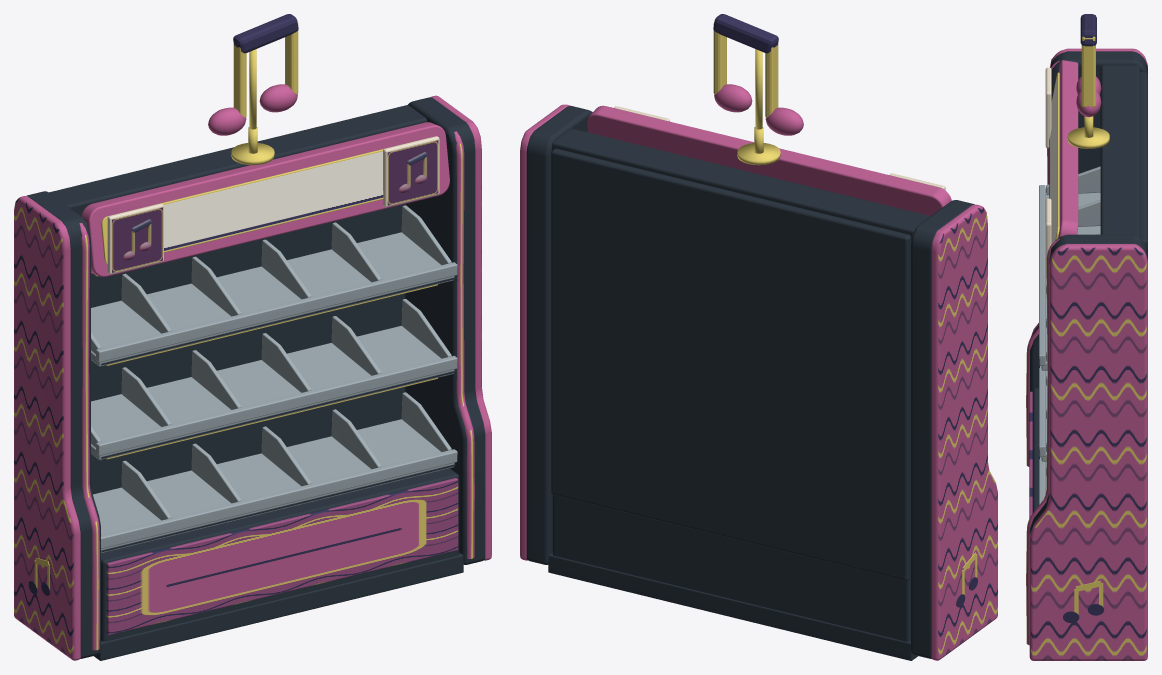
Rendered from TH_MUSIC.fbx.
3 renders of one model, left to right at view 1: azimuth 30°, elevation 25°; view 2: azimuth 150°, elevation 25°; view 3: azimuth 270°, elevation 25°, orthographic. The views are drawn at different scales.
Parts seen in each view (by area): view 1: BaseFrontInset, Left_PaintedPanel, BackPanel.001, Right_StructuralWall, Tray_02, Tray_01, Tray_03, HeaderFace, HeaderBorder, TopCrossRail, Left_StructuralWall, ClosedSolidBase (+37 smaller); view 2: BackPanel.001, Left_PaintedPanel, ClosedSolidBase, Right_StructuralWall, HeaderBorder, Left_StructuralWall, TopCrossRail, LowerPlinth, Right_PaintedPanel, Musical note beam, Musical note stem, Musical note head.001 (+3 smaller); view 3: Right_PaintedPanel, TopCrossRail, HeaderBorder, Left_StructuralWall, HeaderFace, BackPanel.001, RightHousing, FrontLip_01, Right_StructuralWall, Musical note stem.001, ClosedSolidBase, TopperMount (+14 smaller).
Boxes of the visible parts, x1,y1,x2,y2 form: BaseFrontInset: [106, 478, 458, 635]; Left_PaintedPanel: [14, 196, 80, 660]; BackPanel.001: [91, 204, 405, 494]; Right_StructuralWall: [405, 97, 485, 564]; Tray_02: [91, 326, 454, 459]; Tray_01: [91, 232, 454, 366]; Tray_03: [93, 419, 454, 553]; HeaderFace: [101, 138, 426, 264]; HeaderBorder: [81, 122, 449, 277]; TopCrossRail: [49, 105, 427, 216]; Left_StructuralWall: [26, 191, 100, 658]; ClosedSolidBase: [101, 468, 459, 641]; BackPanel.001: [551, 148, 911, 580]; Left_PaintedPanel: [931, 204, 997, 660]; ClosedSolidBase: [552, 495, 910, 641]; Right_StructuralWall: [526, 106, 592, 564]; HeaderBorder: [587, 105, 951, 215]; Left_StructuralWall: [911, 200, 974, 658]; TopCrossRail: [552, 128, 930, 240]; LowerPlinth: [548, 553, 917, 660]; Right_PaintedPanel: [520, 104, 570, 560]; Musical note beam: [713, 14, 778, 53]; Musical note stem: [765, 43, 778, 118]; Musical note head.001: [714, 84, 752, 112]; Right_PaintedPanel: [1029, 244, 1147, 660]; TopCrossRail: [1100, 65, 1139, 236]; HeaderBorder: [1058, 60, 1078, 237]; Left_StructuralWall: [1030, 51, 1147, 391]; HeaderFace: [1049, 72, 1059, 243]; BackPanel.001: [1140, 72, 1147, 250]; RightHousing: [1026, 238, 1059, 645]; FrontLip_01: [1039, 185, 1046, 365]; Right_StructuralWall: [1029, 234, 1147, 534]; Musical note stem.001: [1081, 36, 1095, 107]; ClosedSolidBase: [1032, 388, 1038, 513]; TopperMount: [1067, 127, 1109, 148].
Size of the model in its own units: 3.62 by 4.67 by 0.9273.
